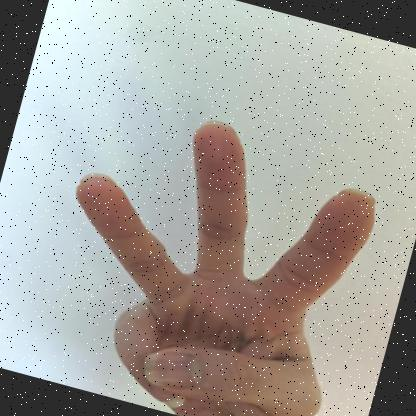W: (75, 120, 375, 416)
